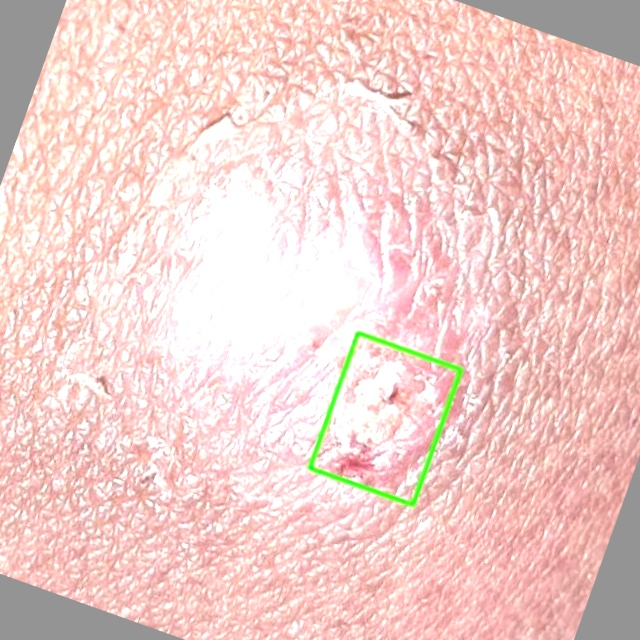Contact Dermatitis: (309, 332, 461, 504)
